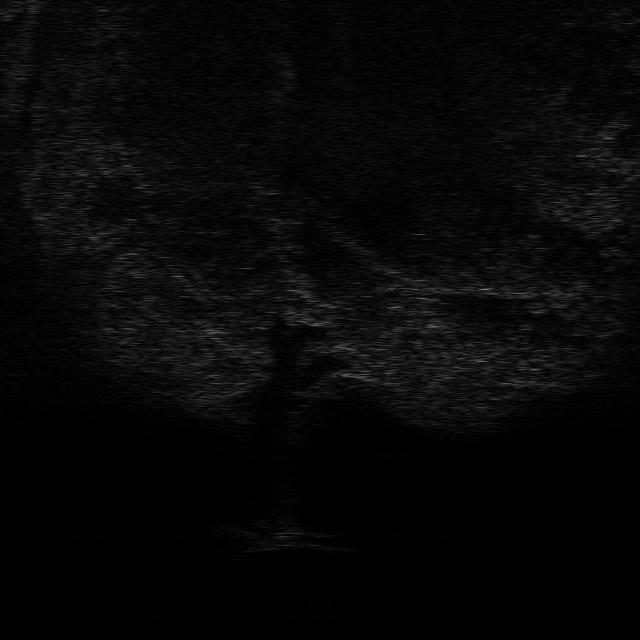plane: (228, 518, 356, 556)
